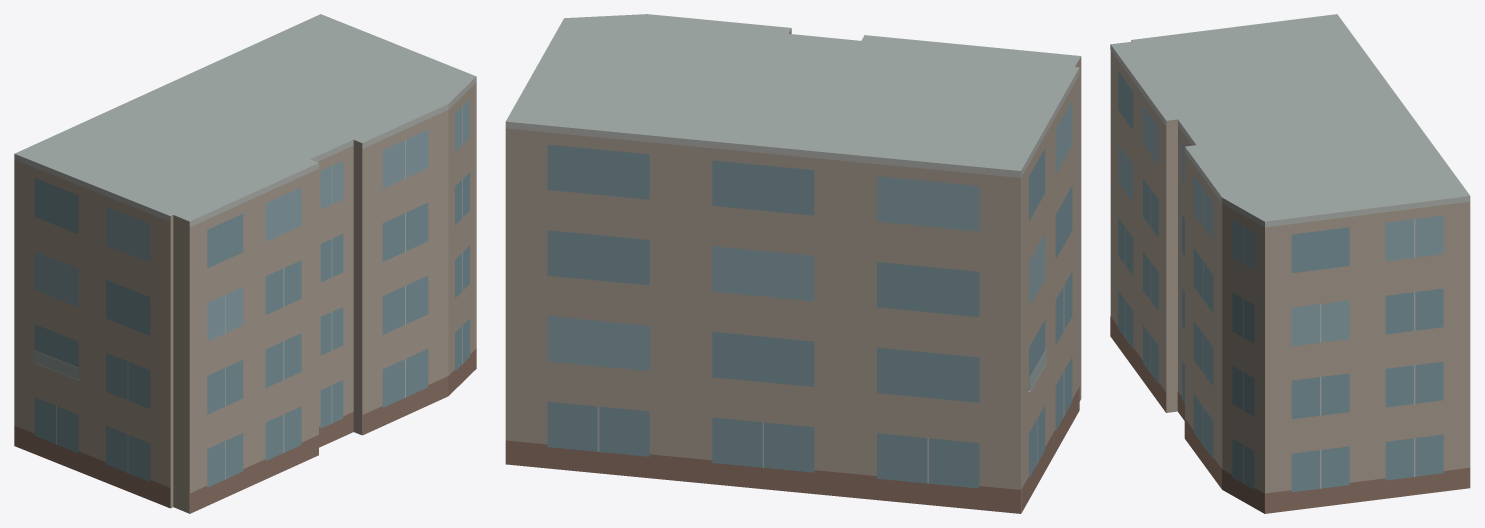
The model's file is survey-upis-32610324.glb.
3 renders of one model, left to right at view 1: azimuth 30°, elevation 25°; view 2: azimuth 150°, elevation 25°; view 3: azimuth 270°, elevation 25°, orthographic. The views are drawn at different scales.
Visible parts, largest first — view 1: survey-upis-32610324.tmp; view 2: survey-upis-32610324.tmp; view 3: survey-upis-32610324.tmp.
Part boxes in pixels (x1=…): survey-upis-32610324.tmp: x1=14, y1=14, x2=476, y2=513; survey-upis-32610324.tmp: x1=505, y1=14, x2=1081, y2=513; survey-upis-32610324.tmp: x1=1110, y1=14, x2=1470, y2=513.
Bounding box in the file's own units: 18.77 × 12.3 × 13.74.
